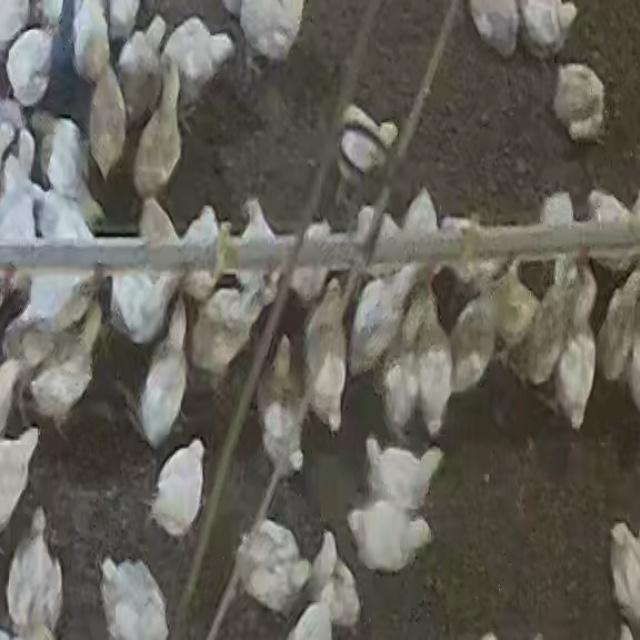chicken: (108, 192, 192, 345), (25, 302, 103, 436), (190, 280, 272, 381), (234, 516, 313, 616), (555, 262, 601, 427), (6, 511, 65, 637), (134, 58, 184, 202), (305, 279, 352, 429), (256, 333, 306, 474), (159, 14, 234, 108), (347, 437, 442, 510), (447, 278, 499, 402), (347, 261, 408, 366), (98, 555, 171, 639), (148, 298, 192, 436), (348, 502, 436, 571), (115, 18, 167, 122), (309, 534, 364, 630), (382, 307, 423, 435), (598, 263, 640, 382), (44, 114, 98, 206), (552, 61, 608, 148), (10, 267, 96, 322), (518, 283, 565, 383), (155, 439, 209, 526), (236, 1, 305, 68), (336, 106, 402, 176), (413, 338, 456, 443), (237, 201, 284, 297), (82, 70, 124, 174), (6, 28, 55, 111), (406, 187, 446, 278), (70, 0, 112, 86)
